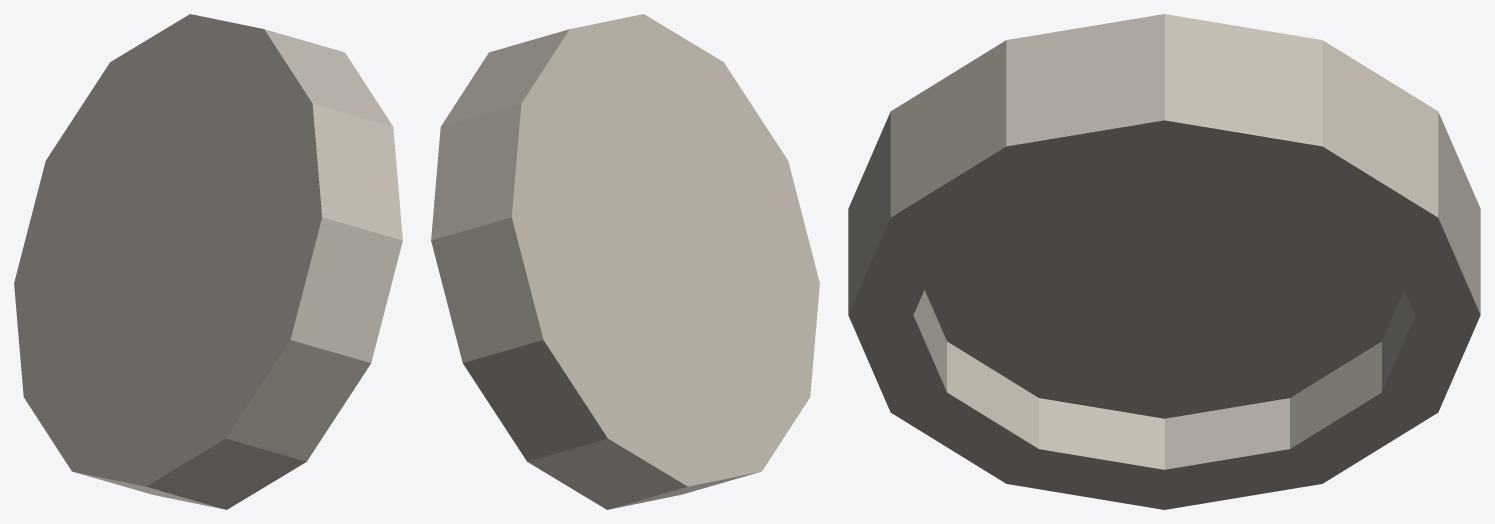
The model's file is outlet_main_l_2.glb.
The picture shows the model from 3 angles, left to right: view 1: azimuth 30°, elevation 25°; view 2: azimuth 150°, elevation 25°; view 3: azimuth 270°, elevation 25°; orthographic projection. The views are drawn at different scales.
Visible parts, largest first — view 1: Cylinder.083; view 2: Cylinder.083; view 3: Cylinder.083.
Part boxes in pixels (left/top/right/bottom): Cylinder.083: left=14, top=14, right=402, bottom=509; Cylinder.083: left=431, top=14, right=819, bottom=509; Cylinder.083: left=848, top=14, right=1480, bottom=509.
Bounding box in the file's own units: 0.1202 × 0.1845 × 0.1867.
Materials: 1 (1 with a texture image).
